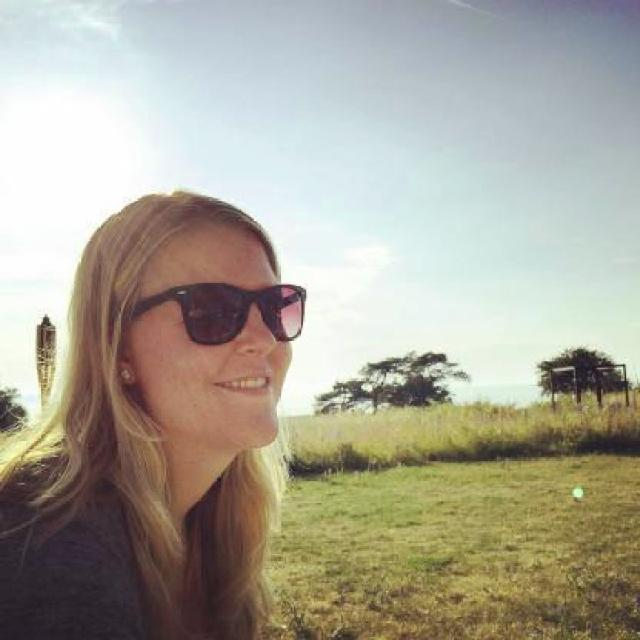face_nomask: (178, 270, 298, 422)
glasses: (122, 279, 313, 358)
head_nohelmet: (87, 190, 285, 272)
person: (0, 194, 312, 640)
